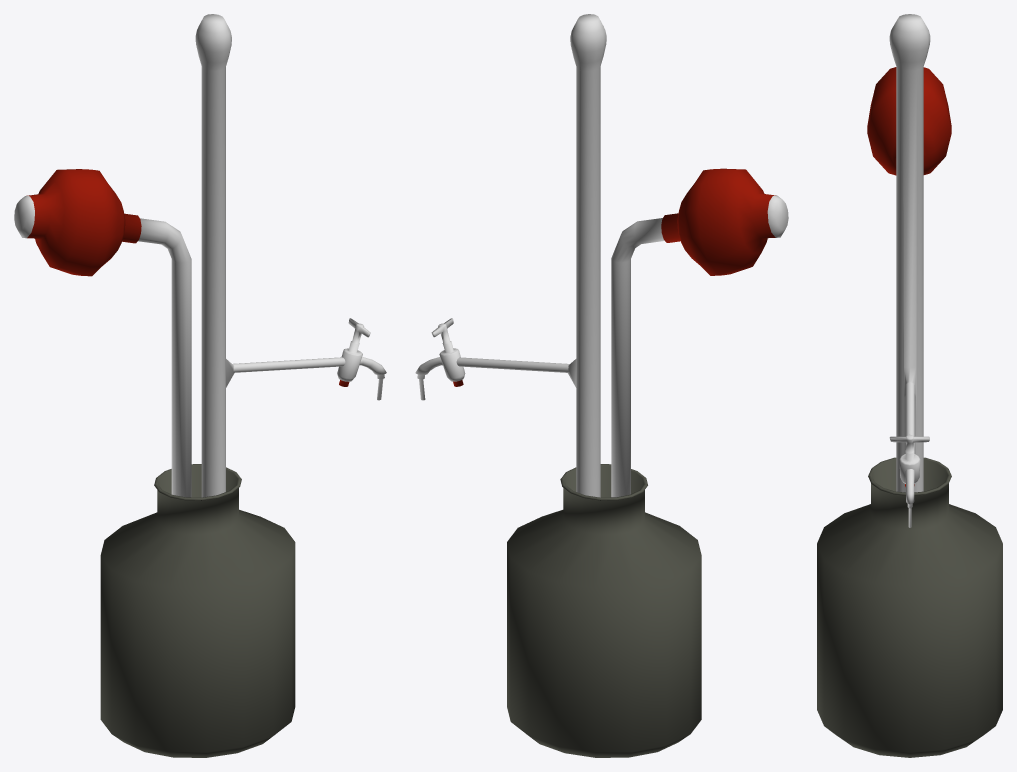
File: BuretaComFrasco.fbx
3 renders of one model, left to right at view 1: azimuth 30°, elevation 25°; view 2: azimuth 150°, elevation 25°; view 3: azimuth 270°, elevation 25°, orthographic.
Visible parts, largest first — view 1: BuretaFrasco; view 2: BuretaFrasco; view 3: BuretaFrasco.
Boxes of the visible parts, left/top/right/bottom form: BuretaFrasco: left=14, top=14, right=386, bottom=757; BuretaFrasco: left=415, top=14, right=788, bottom=757; BuretaFrasco: left=817, top=14, right=1002, bottom=757.
Bounding box in the file's own units: 189 × 343 × 81.31.
